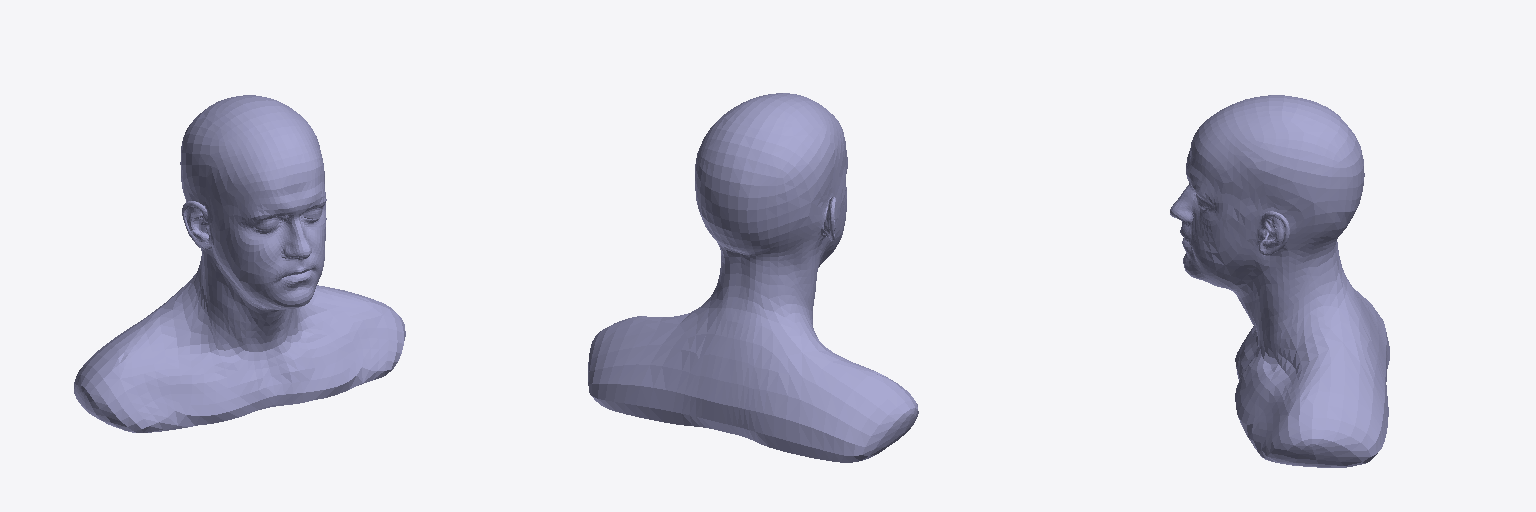
The model's file is man.obj.
3 renders of one model, left to right at view 1: azimuth 30°, elevation 25°; view 2: azimuth 150°, elevation 25°; view 3: azimuth 270°, elevation 25°, orthographic.
Parts seen in each view (by area): view 1: LeePerrySmith; view 2: LeePerrySmith; view 3: LeePerrySmith.
Boxes of the visible parts, x1,y1,x2,y2 form: LeePerrySmith: [74, 95, 405, 432]; LeePerrySmith: [588, 93, 918, 462]; LeePerrySmith: [1170, 95, 1389, 467].
Bounding box in the file's own units: 8.55 × 7.95 × 5.18.